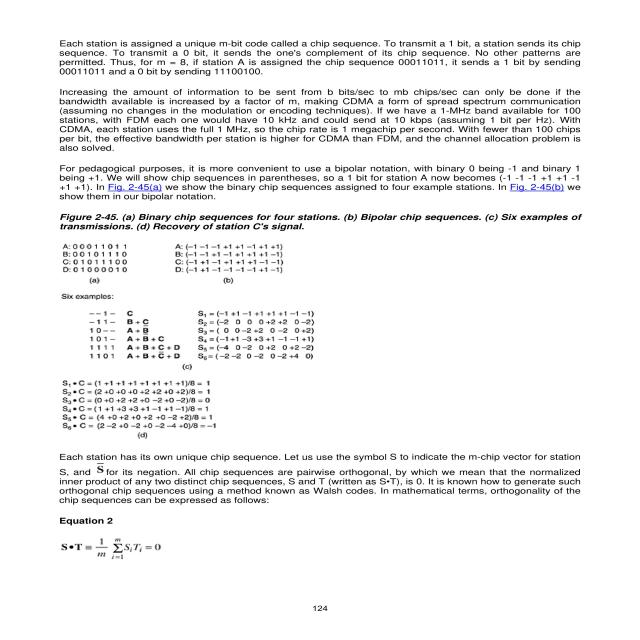diagram: (15, 204, 596, 444)
